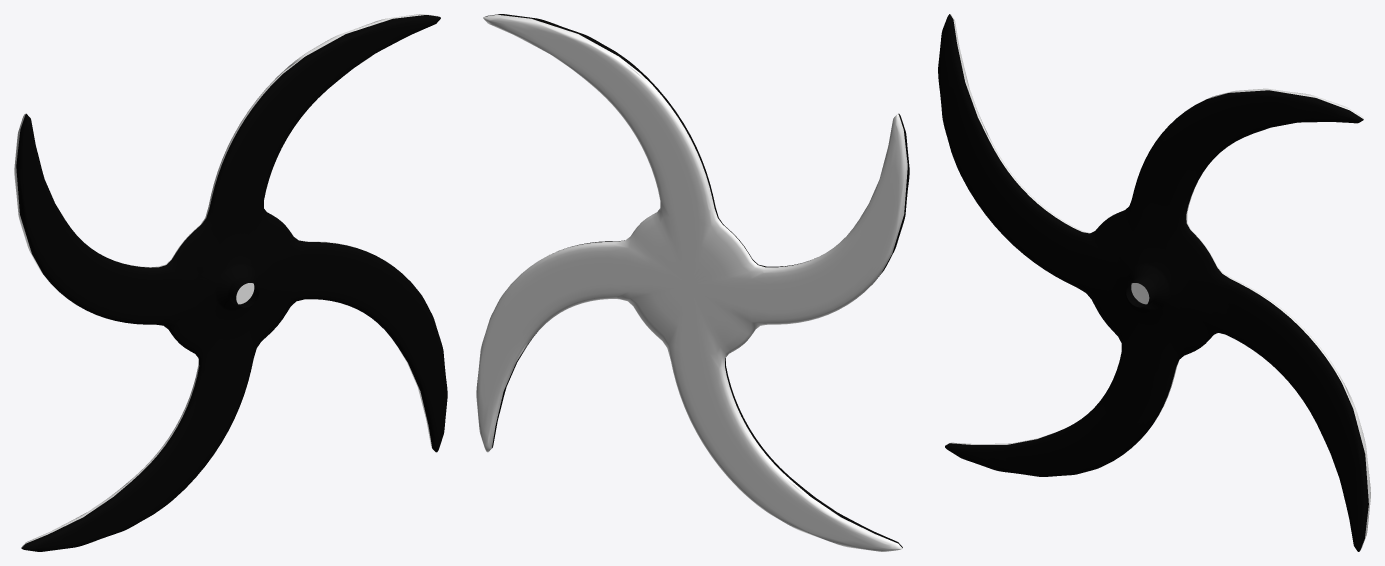
The model's file is machine_blade.glb.
The picture shows the model from 3 angles, left to right: view 1: azimuth 30°, elevation 25°; view 2: azimuth 150°, elevation 25°; view 3: azimuth 330°, elevation 25°; orthographic projection.
Visible parts, largest first — view 1: Circle.002; view 2: Circle.002; view 3: Circle.002.
Boxes of the visible parts, left/top/right/bottom form: Circle.002: left=14, top=14, right=447, bottom=551; Circle.002: left=476, top=14, right=909, bottom=551; Circle.002: left=938, top=14, right=1370, bottom=551.
Size of the model in its own units: 148 by 148 by 12.
1 material, 1 textured.
